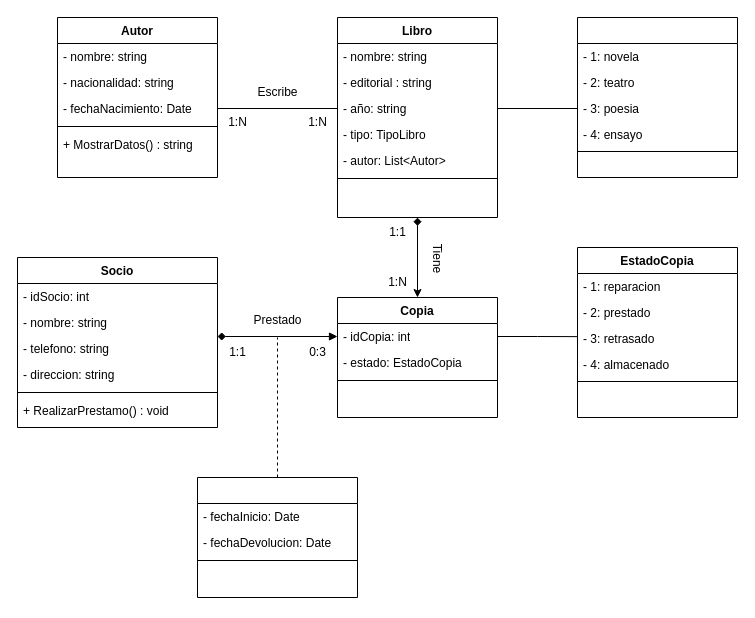
Some shapes in this 755 by 618 pixel diagram are drawn without their labels. Here are the shapes that lost their labels. From the top down, the box of each, then its label:
(576, 16, 738, 178): TipoLibro
(196, 476, 358, 598): Prestamo
